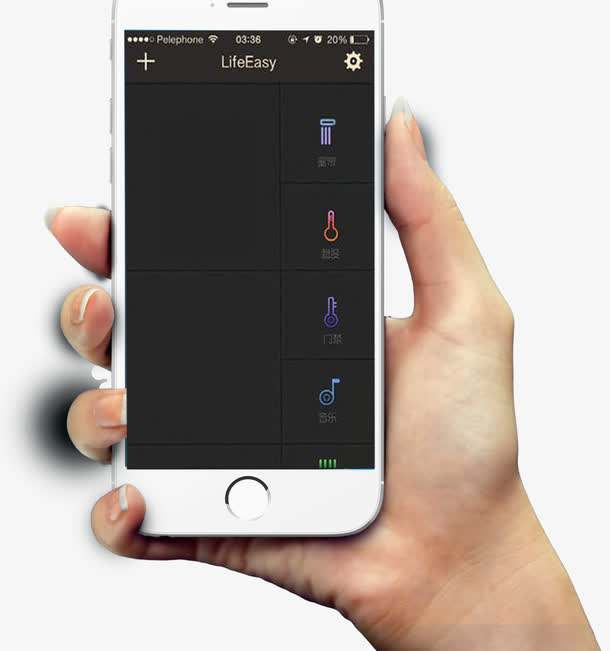phone: (40, 1, 517, 625)
